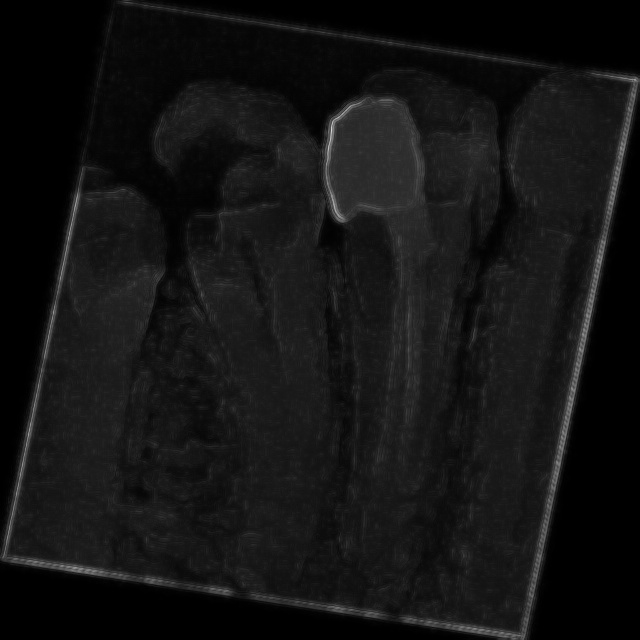Class 1- complete endodontic treatment: (228, 42, 567, 610)
cavity: (32, 57, 423, 589)
